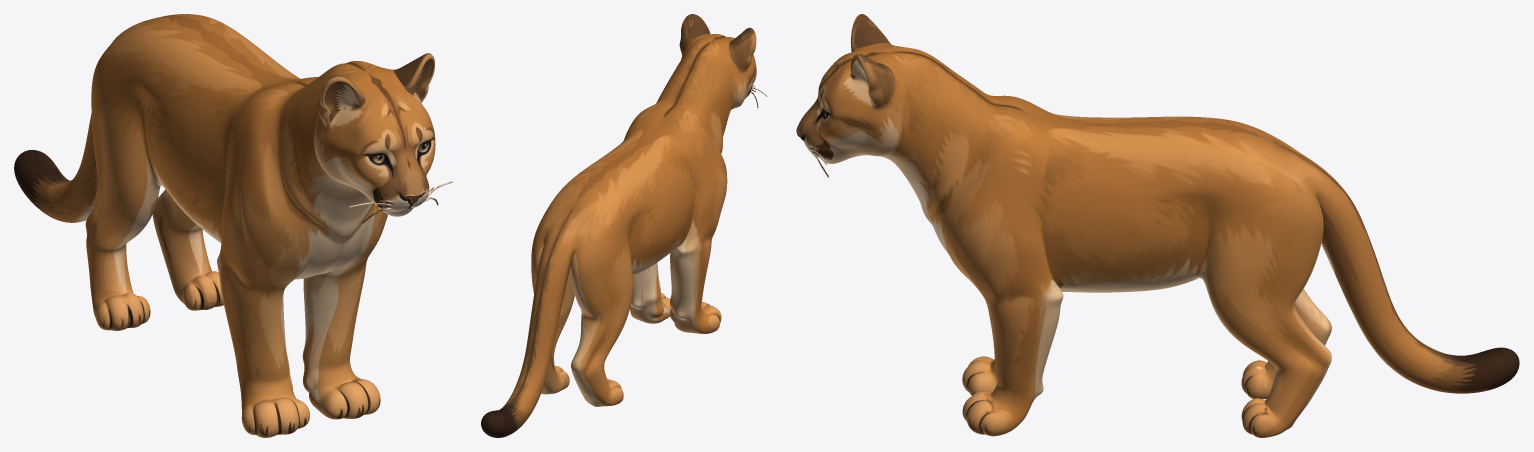
File: puma.glb
3 views of the same model, side by side, from view 1: azimuth 30°, elevation 25°; view 2: azimuth 150°, elevation 25°; view 3: azimuth 270°, elevation 25° (orthographic). The views are drawn at different scales.
Bounding box in the file's own units: 0.037 × 0.1 × 0.1742.
Materials: 1 (1 with a texture image).
